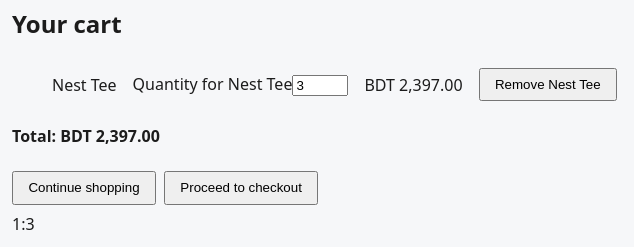
QuantityInput inside the cart › F7: leaving an empty field restores the committed value
The image size is (634, 247).
Clear the number field labelled "Quantity for Nest Tee": coordinates (320, 86) top-left (292, 75), bottom-right (348, 96)
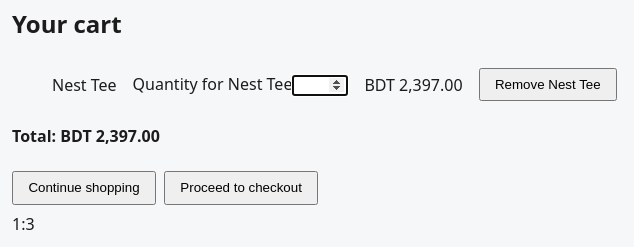
Press Tab
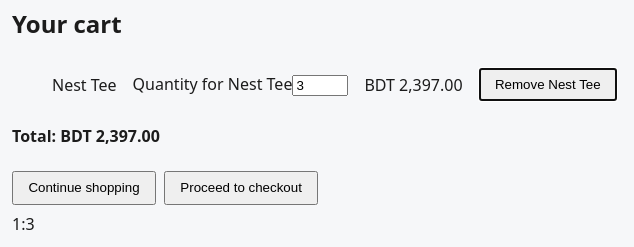
Result: the number field labelled "Quantity for Nest Tee" holds "3" at top-left (292, 75), bottom-right (348, 96)
